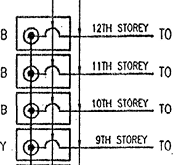Single Phase Tap-Off Unit: (12, 14, 75, 53), (11, 90, 75, 126), (14, 54, 73, 93), (12, 127, 73, 164)
